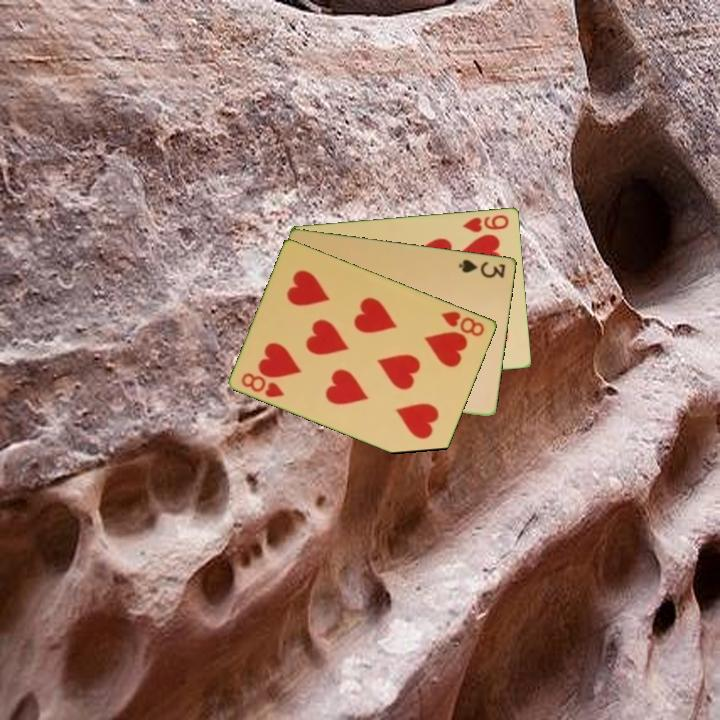3s: (455, 256, 509, 281)
8h: (438, 307, 488, 339), (238, 369, 288, 400)
9h: (459, 211, 512, 235)
